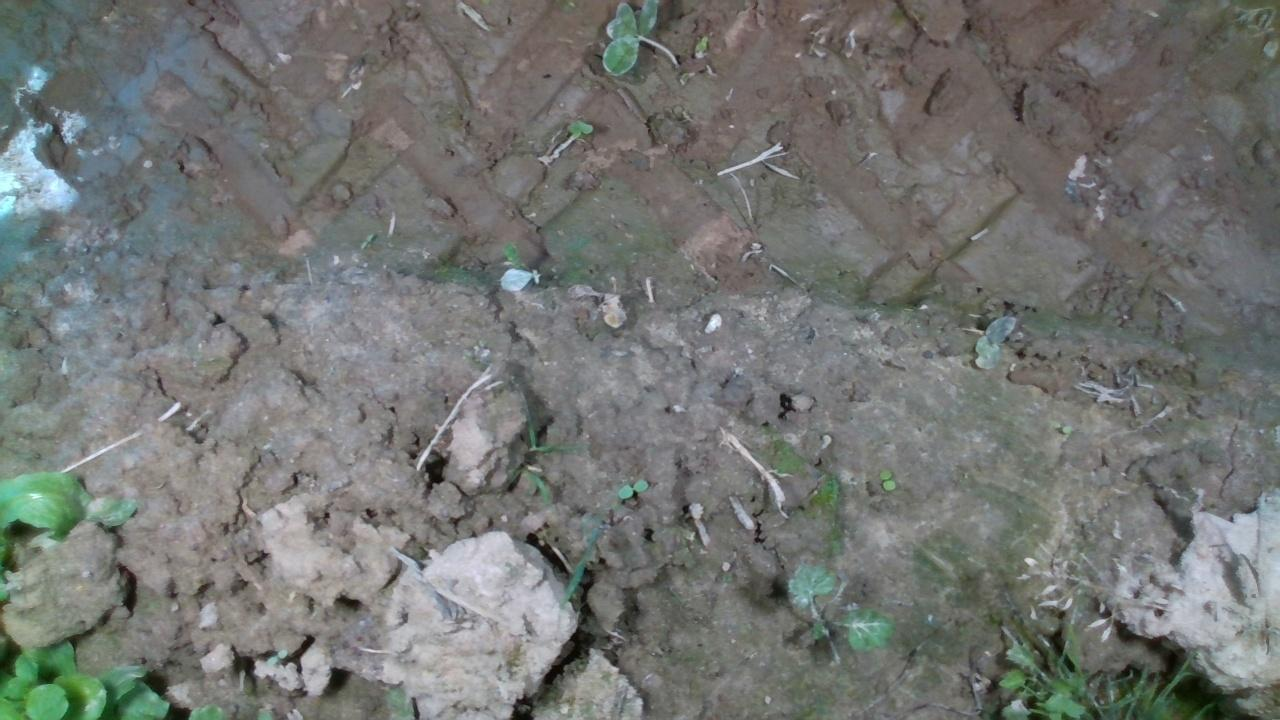weed: (615, 475, 648, 500), (877, 467, 896, 492)
